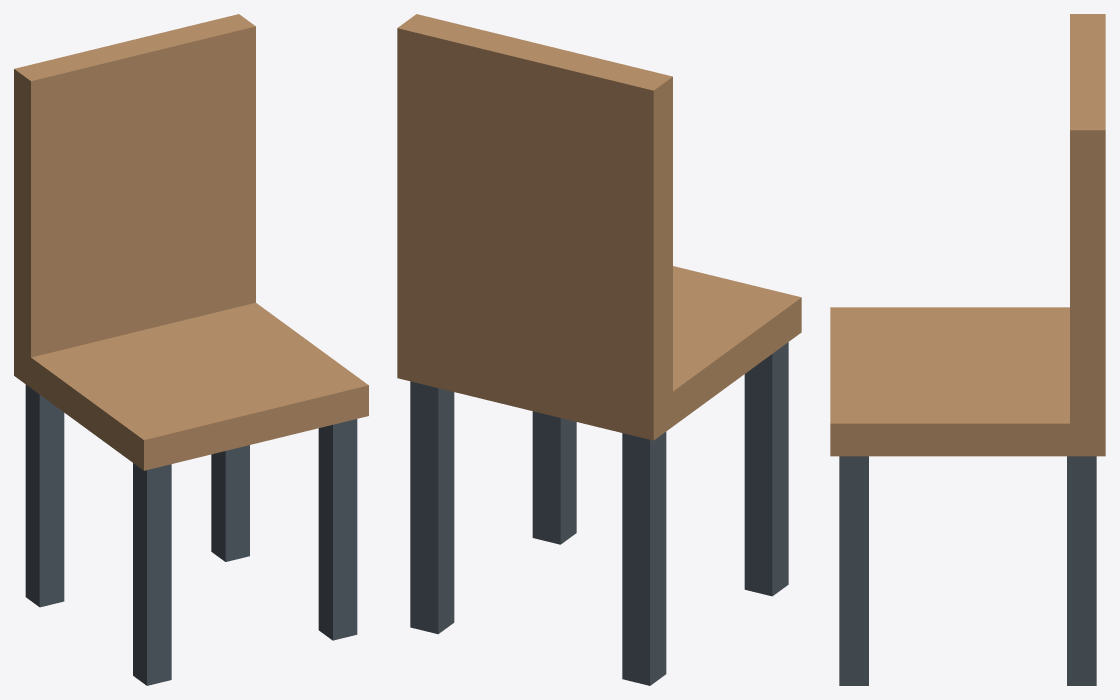
File: Dining_Chair.fbx
3 renders of one model, left to right at view 1: azimuth 30°, elevation 25°; view 2: azimuth 150°, elevation 25°; view 3: azimuth 270°, elevation 25°, orthographic. The views are drawn at different scales.
Visible parts, largest first — view 1: Dining_Chair; view 2: Dining_Chair; view 3: Dining_Chair.
Part boxes in pixels (x1,y1,x2,y2): Dining_Chair: (14,14,368,685); Dining_Chair: (397,14,801,685); Dining_Chair: (830,14,1105,685).
Bounding box in the file's own units: 0.46 × 1.03 × 0.46.
